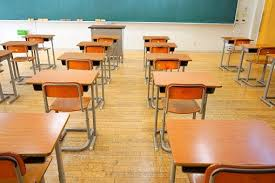desk: (164, 118, 274, 182), (24, 70, 98, 150), (152, 70, 215, 150), (0, 113, 70, 183), (57, 53, 105, 93), (146, 53, 191, 92), (238, 43, 274, 89), (0, 40, 40, 71), (77, 43, 111, 79), (220, 36, 253, 71), (143, 42, 177, 75), (29, 33, 55, 66)
